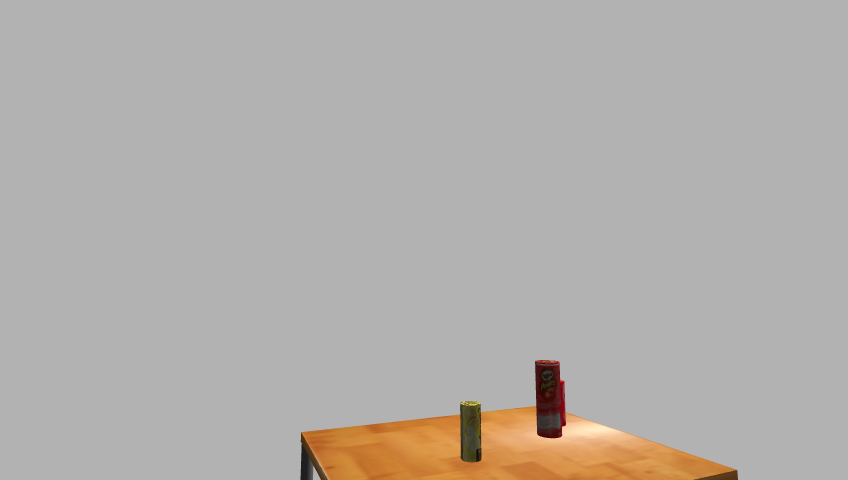biscuits pack: (458, 400, 483, 464)
coke can: (554, 380, 567, 429)
dinner table: (290, 405, 747, 480)
pringles can: (533, 360, 564, 440)
